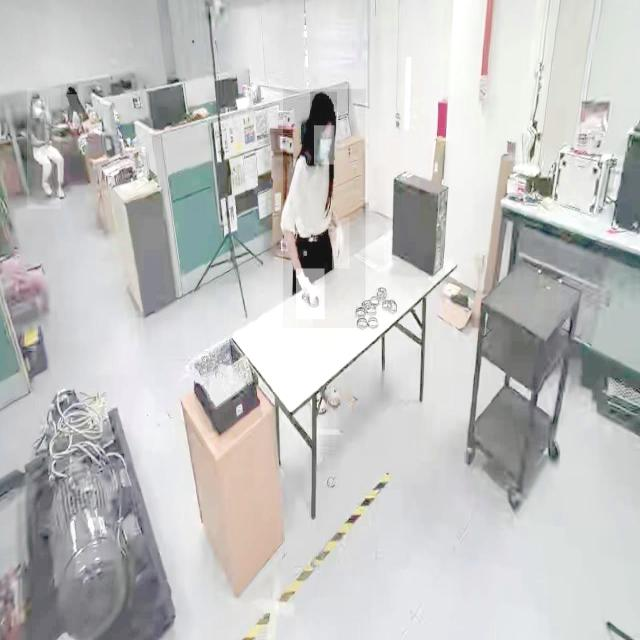face_mask: (314, 126, 334, 164), (32, 99, 42, 118)
hand_glove: (296, 268, 324, 320), (332, 218, 349, 269)
head_nohelmet: (310, 91, 337, 118), (66, 85, 78, 95), (32, 92, 42, 102)
person: (282, 89, 366, 329), (26, 88, 60, 210)
